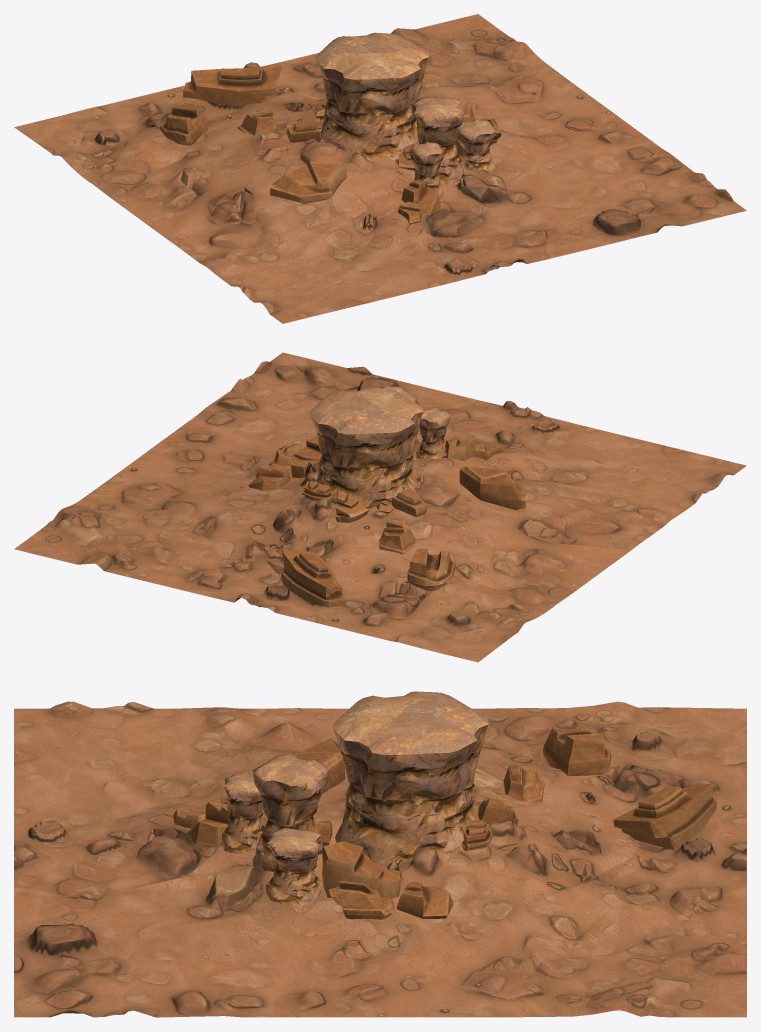
The model's file is desert_plat-former.glb.
The picture shows the model from 3 angles, top to bottom: view 1: azimuth 30°, elevation 25°; view 2: azimuth 150°, elevation 25°; view 3: azimuth 270°, elevation 25°; orthographic projection. The views are drawn at different scales.
Parts seen in each view (by area): view 1: RedRockGround, RockPlatform:Layer1, RockBoulderB:Layer1, RockPlatform:Layer2_(1), RockBoulderB:Layer2, RockPlatform:Layer2_(3), RockBoulderB:Layer3, RockPlatform:Layer2_(2), RockBoulderA:Layer3_(1), RockBoulderB:Layer4, RockBoulderA:Layer6; view 2: RedRockGround, RockPlatform:Layer1, RockBoulderB:Layer1, RockBoulderB:Layer2, RockBoulderB:Layer3, RockPlatform:Layer2_(2), RockBoulderB:Layer4, RockBoulderA:Layer3_(2), RockBoulderA:Layer1, RockBoulderA:Layer4_(1), RockBoulderA:Layer6, RockBoulderA:Layer3_(1); view 3: RedRockGround, RockPlatform:Layer1, RockPlatform:Layer2_(1), RockBoulderB:Layer1, RockPlatform:Layer2_(3), RockBoulderA:Layer1, RockBoulderB:Layer3, RockPlatform:Layer2_(2), RockBoulderB:Layer6, RockBoulderA:Layer3_(2), RockBoulderA:Layer3_(1), RockBoulderB:Layer4 (+3 smaller).
Part boxes in pixels (box(x1,y1,x2,y2)): RedRockGround: box(14, 14, 746, 323); RockPlatform:Layer1: box(315, 32, 428, 160); RockBoulderB:Layer1: box(183, 66, 281, 106); RockPlatform:Layer2_(1): box(411, 97, 464, 185); RockBoulderB:Layer2: box(270, 161, 346, 204); RockPlatform:Layer2_(3): box(457, 119, 496, 172); RockBoulderB:Layer3: box(159, 103, 207, 145); RockPlatform:Layer2_(2): box(410, 142, 444, 199); RockBoulderA:Layer3_(1): box(401, 180, 441, 216); RockBoulderB:Layer4: box(237, 108, 276, 135); RockBoulderA:Layer6: box(286, 117, 321, 142); RedRockGround: box(14, 352, 746, 662); RockPlatform:Layer1: box(309, 387, 423, 508); RockBoulderB:Layer1: box(280, 549, 345, 607); RockBoulderB:Layer2: box(459, 466, 525, 510); RockBoulderB:Layer3: box(407, 548, 455, 590); RockPlatform:Layer2_(2): box(416, 407, 450, 459); RockBoulderB:Layer4: box(378, 521, 415, 554); RockBoulderA:Layer3_(2): box(248, 465, 290, 491); RockBoulderA:Layer1: box(290, 435, 321, 477); RockBoulderA:Layer4_(1): box(335, 490, 369, 522); RockBoulderA:Layer6: box(391, 488, 427, 517); RockBoulderA:Layer3_(1): box(445, 435, 475, 461); RedRockGround: box(14, 701, 746, 1017); RockPlatform:Layer1: box(332, 691, 488, 864); RockPlatform:Layer2_(1): box(252, 754, 328, 871); RockBoulderB:Layer1: box(613, 783, 716, 850); RockPlatform:Layer2_(3): box(266, 827, 322, 904); RockBoulderA:Layer1: box(321, 841, 400, 898); RockBoulderB:Layer3: box(543, 728, 611, 775); RockPlatform:Layer2_(2): box(222, 774, 264, 853); RockBoulderB:Layer6: box(329, 881, 394, 919); RockBoulderA:Layer3_(2): box(396, 881, 453, 918); RockBoulderA:Layer3_(1): box(186, 802, 228, 847); RockBoulderB:Layer4: box(503, 765, 544, 802).
Bounding box in the file's own units: 2438 × 553 × 2445.
Materials: 5 (5 with a texture image).
